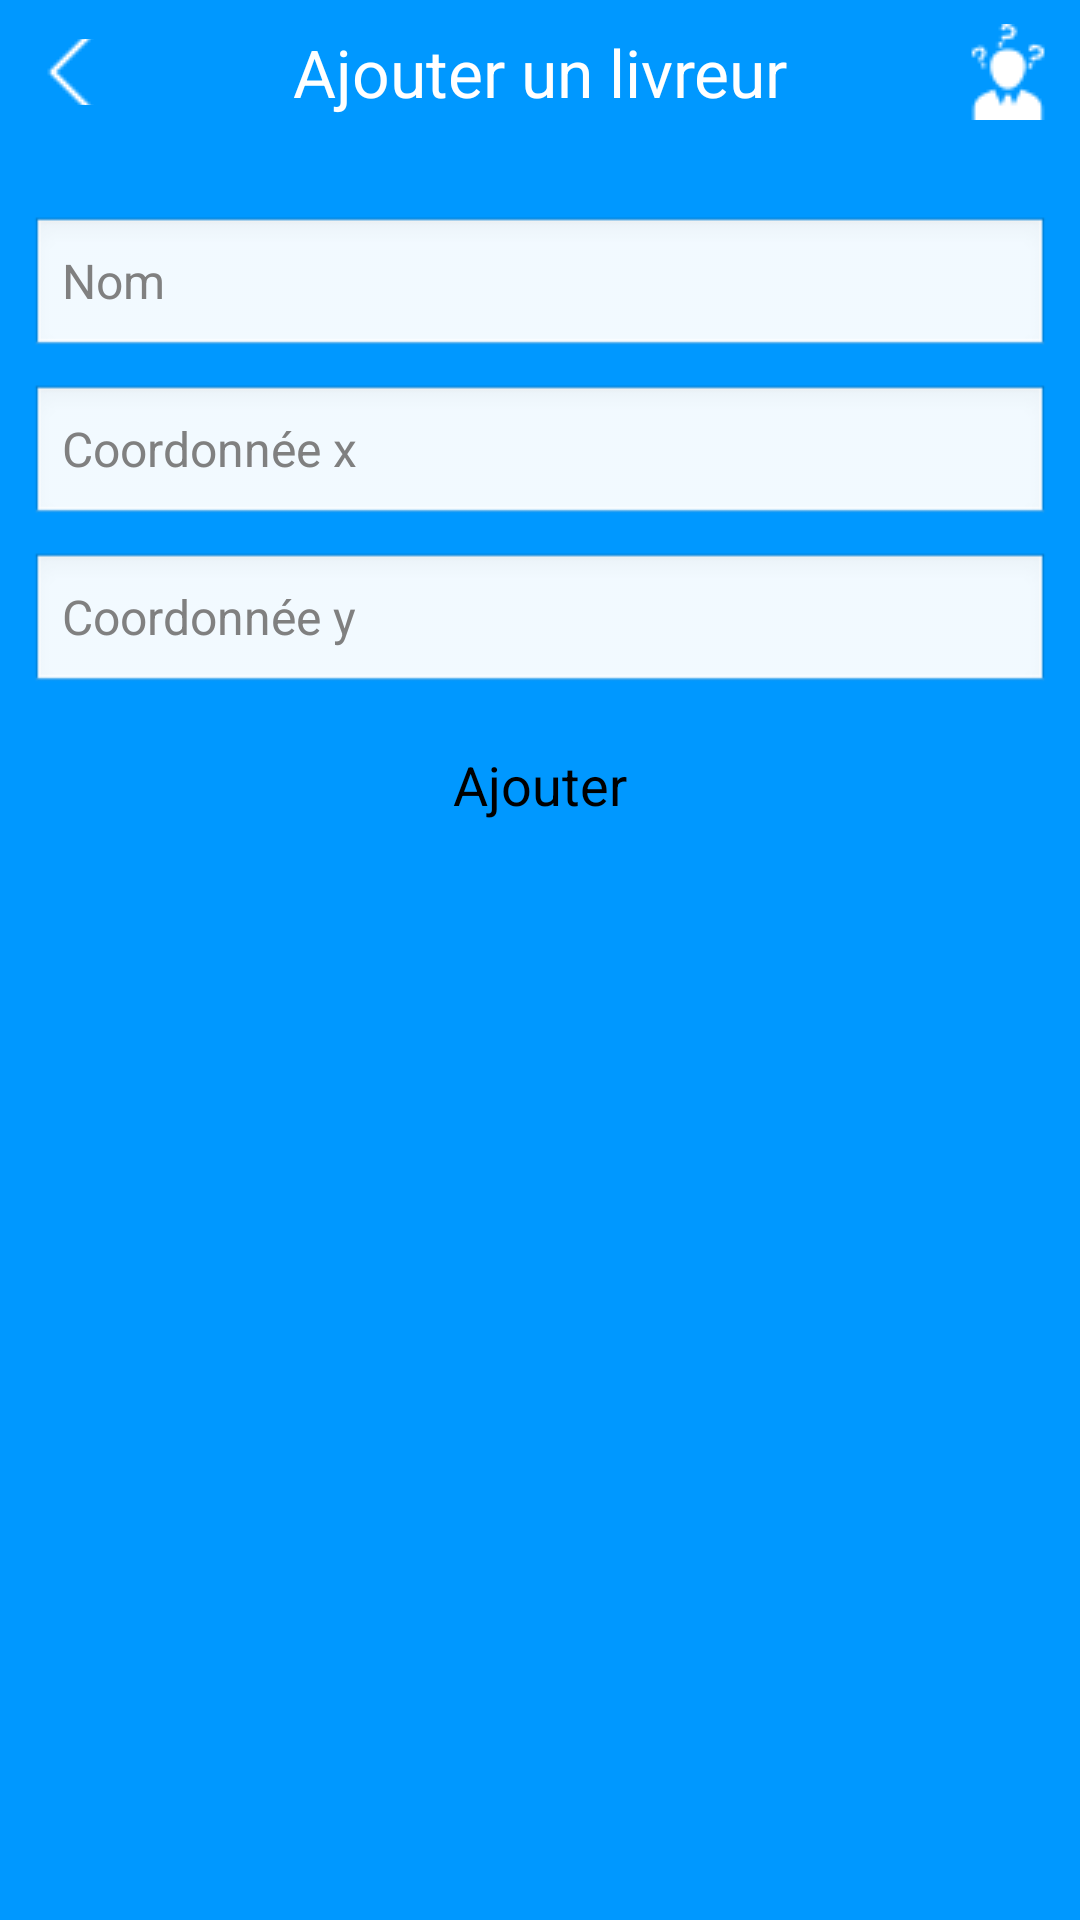

Where icons sit on this 1080px×1920px app screen, as [left=x1, top=y1, right=x2, bottom=y2]:
bouton de retour: [left=48, top=39, right=92, bottom=105]
faq: [left=971, top=24, right=1045, bottom=120]
